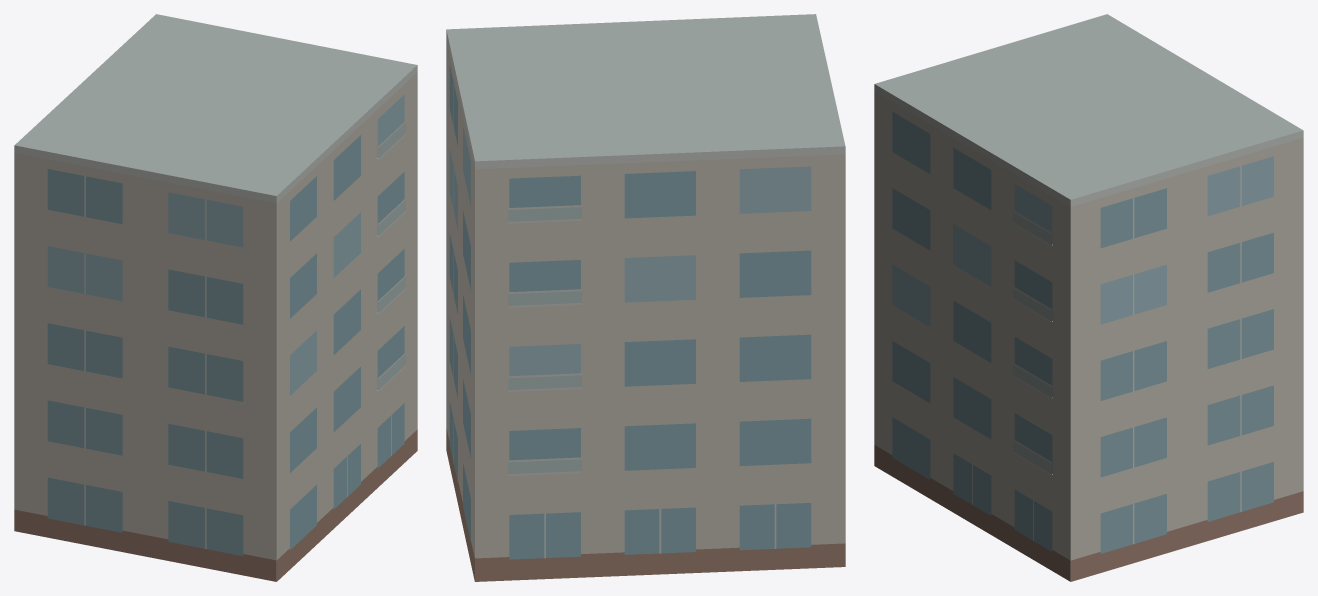
The model's file is survey-upis-32712880.glb.
3 renders of one model, left to right at view 1: azimuth 30°, elevation 25°; view 2: azimuth 150°, elevation 25°; view 3: azimuth 270°, elevation 25°, orthographic. The views are drawn at different scales.
Visible parts, largest first — view 1: survey-upis-32712880.tmp; view 2: survey-upis-32712880.tmp; view 3: survey-upis-32712880.tmp.
Part boxes in pixels (x1=…): survey-upis-32712880.tmp: x1=14, y1=14, x2=417, y2=581; survey-upis-32712880.tmp: x1=446, y1=14, x2=845, y2=581; survey-upis-32712880.tmp: x1=874, y1=14, x2=1303, y2=581.
Bounding box in the file's own units: 13.57 × 13 × 13.24.
